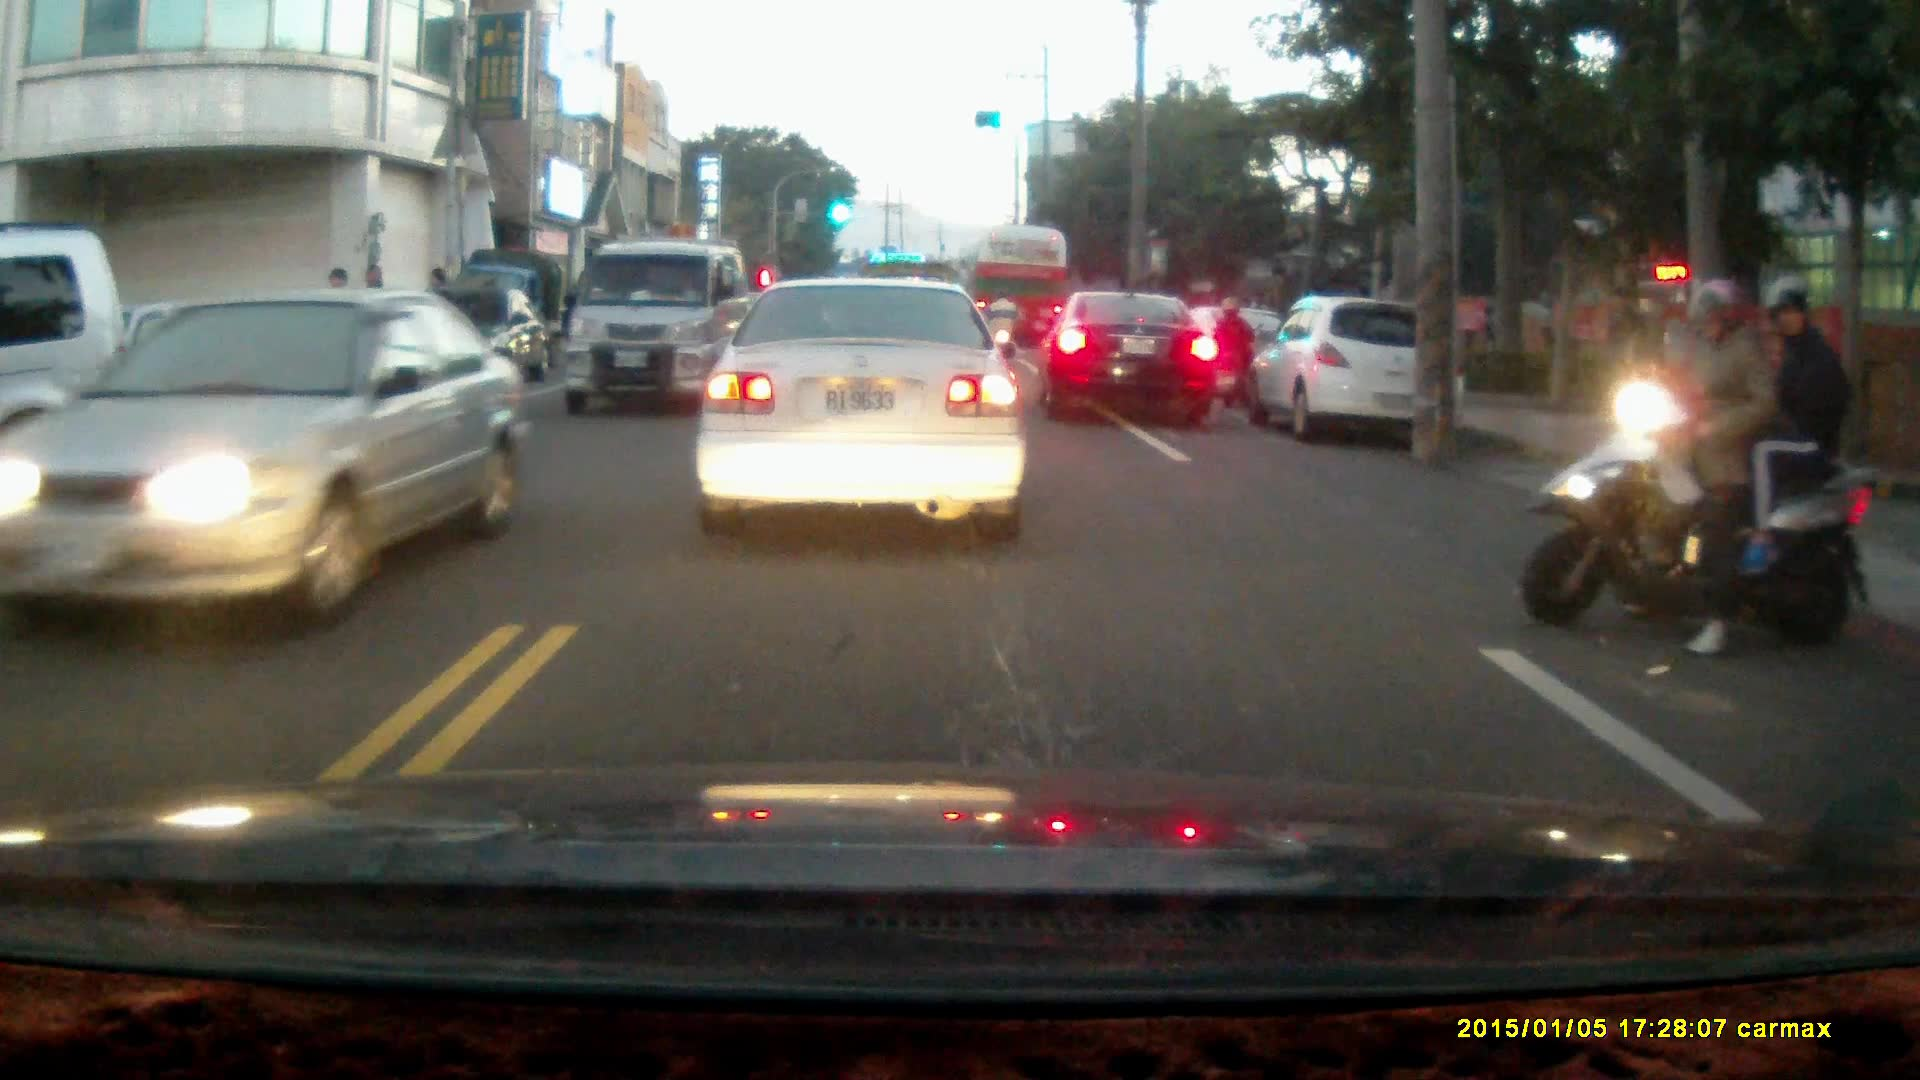pedestrian: (1601, 285, 1653, 414)
rider: (1523, 278, 1868, 666), (1208, 294, 1259, 410), (982, 289, 1021, 368)
vehicle: (1, 290, 529, 628), (691, 276, 1030, 548), (10, 301, 265, 473), (1, 225, 141, 517), (560, 240, 755, 419), (1244, 295, 1467, 443), (1038, 296, 1225, 431), (971, 224, 1072, 365)
